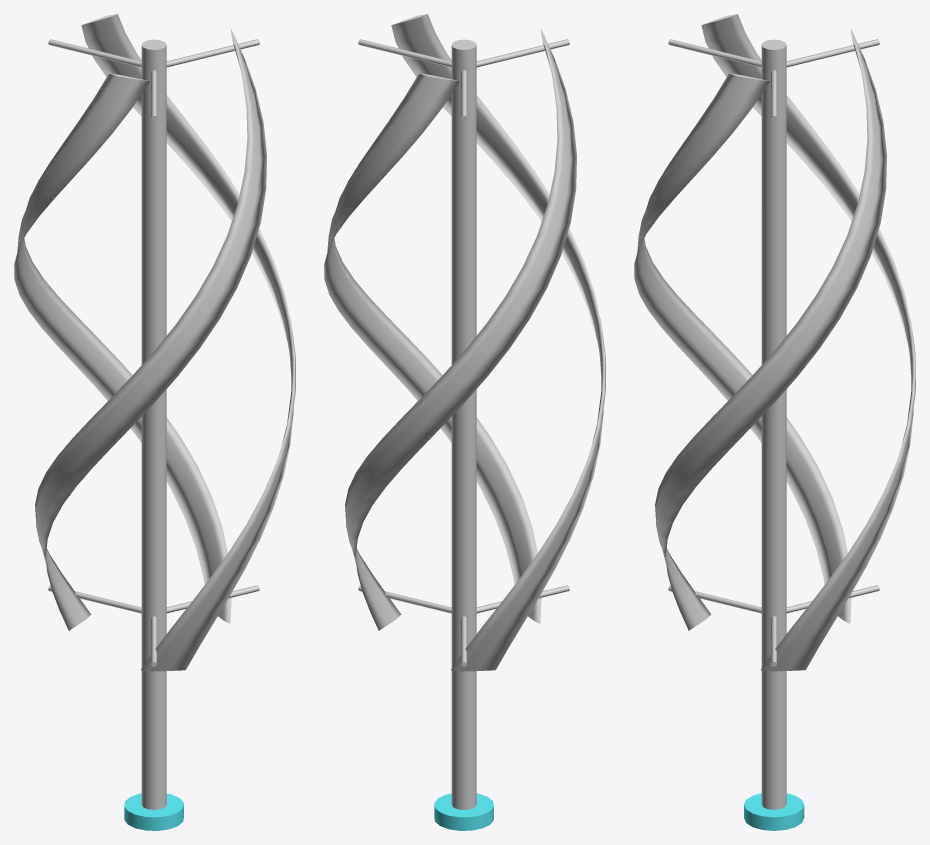
Rendered from SM_WindHelix.fbx.
3 renders of one model, left to right at view 1: azimuth 30°, elevation 25°; view 2: azimuth 150°, elevation 25°; view 3: azimuth 270°, elevation 25°, orthographic.
Parts seen in each view (by area): view 1: SM_WindHelix; view 2: SM_WindHelix; view 3: SM_WindHelix.
Boxes of the visible parts, left/top/right/bottom form: SM_WindHelix: left=14, top=14, right=295, bottom=830; SM_WindHelix: left=324, top=14, right=605, bottom=830; SM_WindHelix: left=634, top=14, right=915, bottom=830.
Size of the model in its own units: 553 by 1700 by 561.
